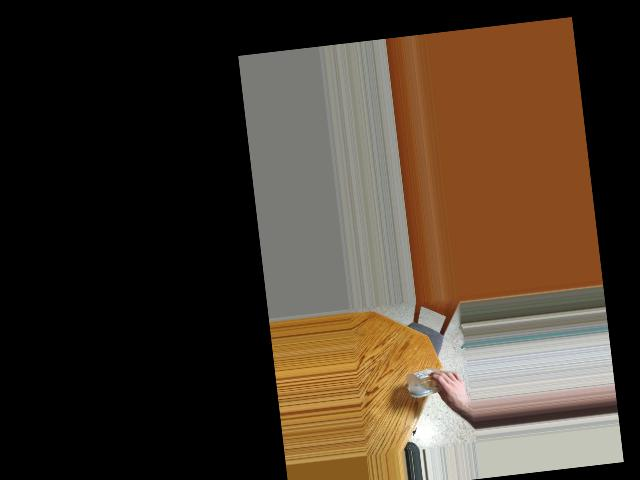cheese: (411, 363, 455, 401)
